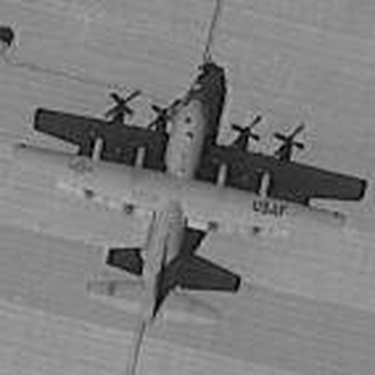airplane: (2, 49, 353, 335)
